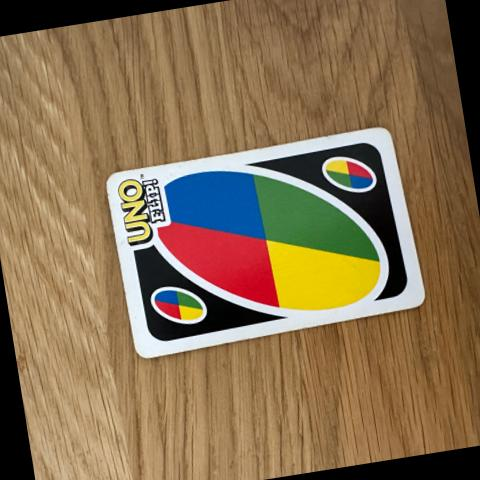wild: (148, 282, 213, 337), (320, 154, 379, 195)
